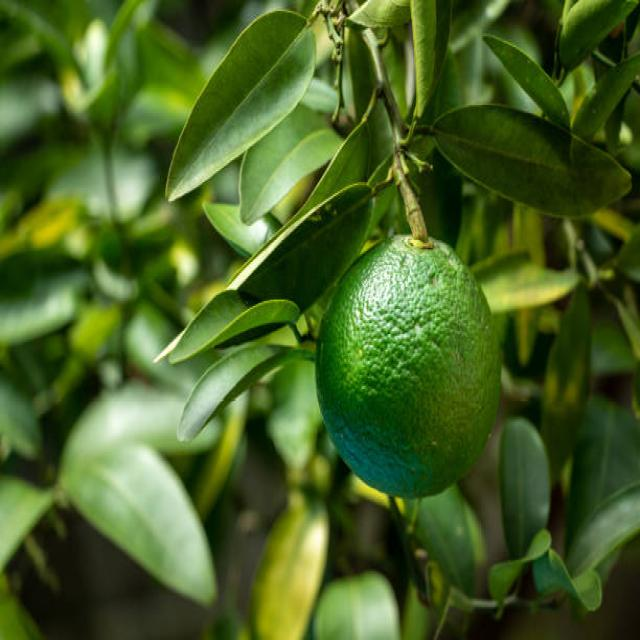Unripe: (312, 232, 502, 499)
